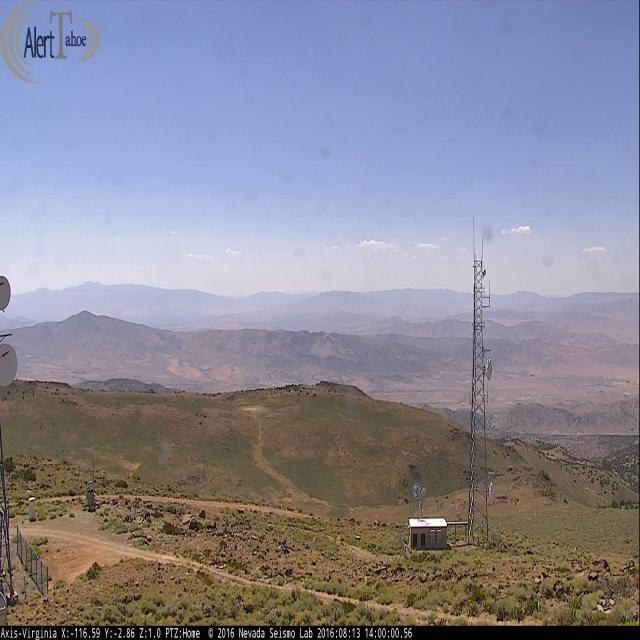smoke: (395, 287, 414, 323)
